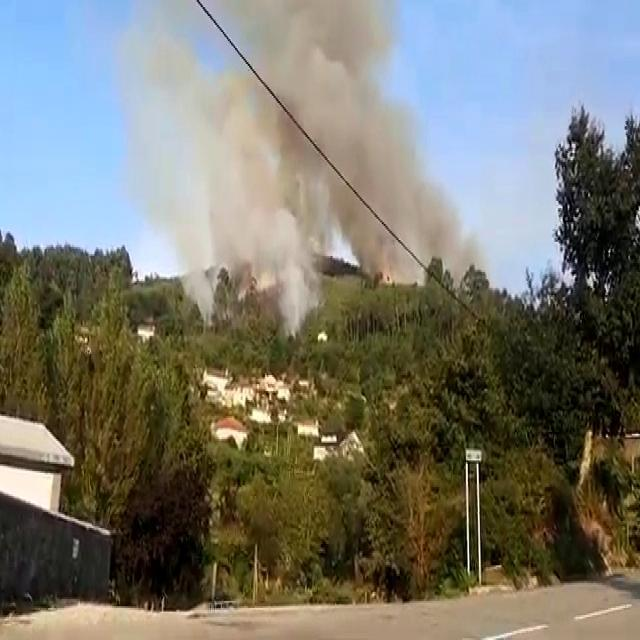Smoke: (144, 0, 460, 289)
